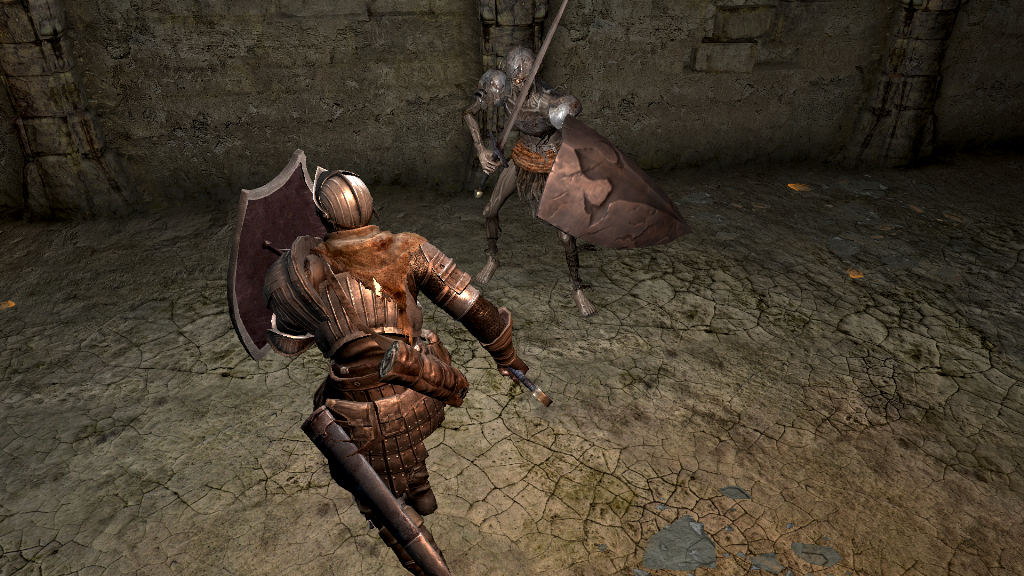player: (224, 146, 554, 576)
undeadSoldier: (462, 45, 600, 318)
